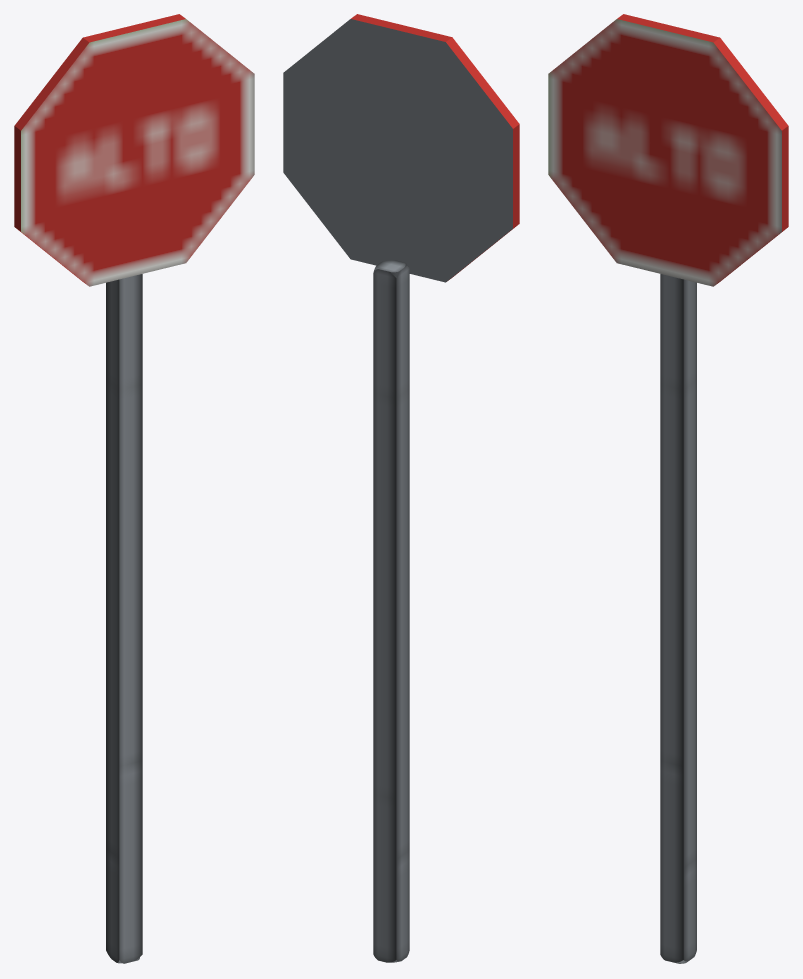
Rendered from Senal_ALTO.fbx.
3 renders of one model, left to right at view 1: azimuth 30°, elevation 25°; view 2: azimuth 150°, elevation 25°; view 3: azimuth 330°, elevation 25°, orthographic.
Parts seen in each view (by area): view 1: Senal_ALTO; view 2: Senal_ALTO; view 3: Senal_ALTO.
Part boxes in pixels (left/top/right/bottom): Senal_ALTO: left=14, top=14, right=254, bottom=963; Senal_ALTO: left=283, top=14, right=519, bottom=962; Senal_ALTO: left=548, top=14, right=788, bottom=963.
Bounding box in the file's own units: 0.75 × 2.88 × 0.1125.
1 material, 1 textured.
